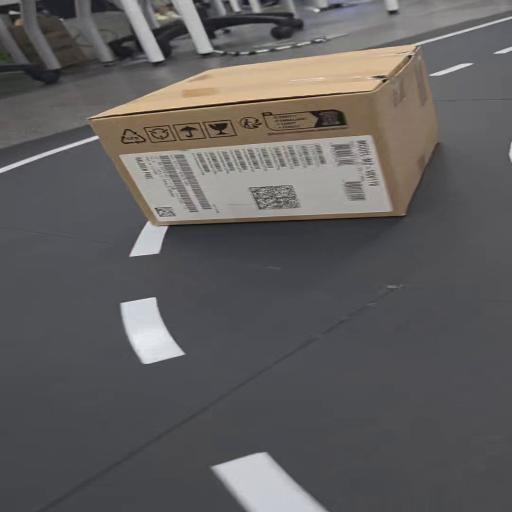Box: (89, 37, 448, 224)
